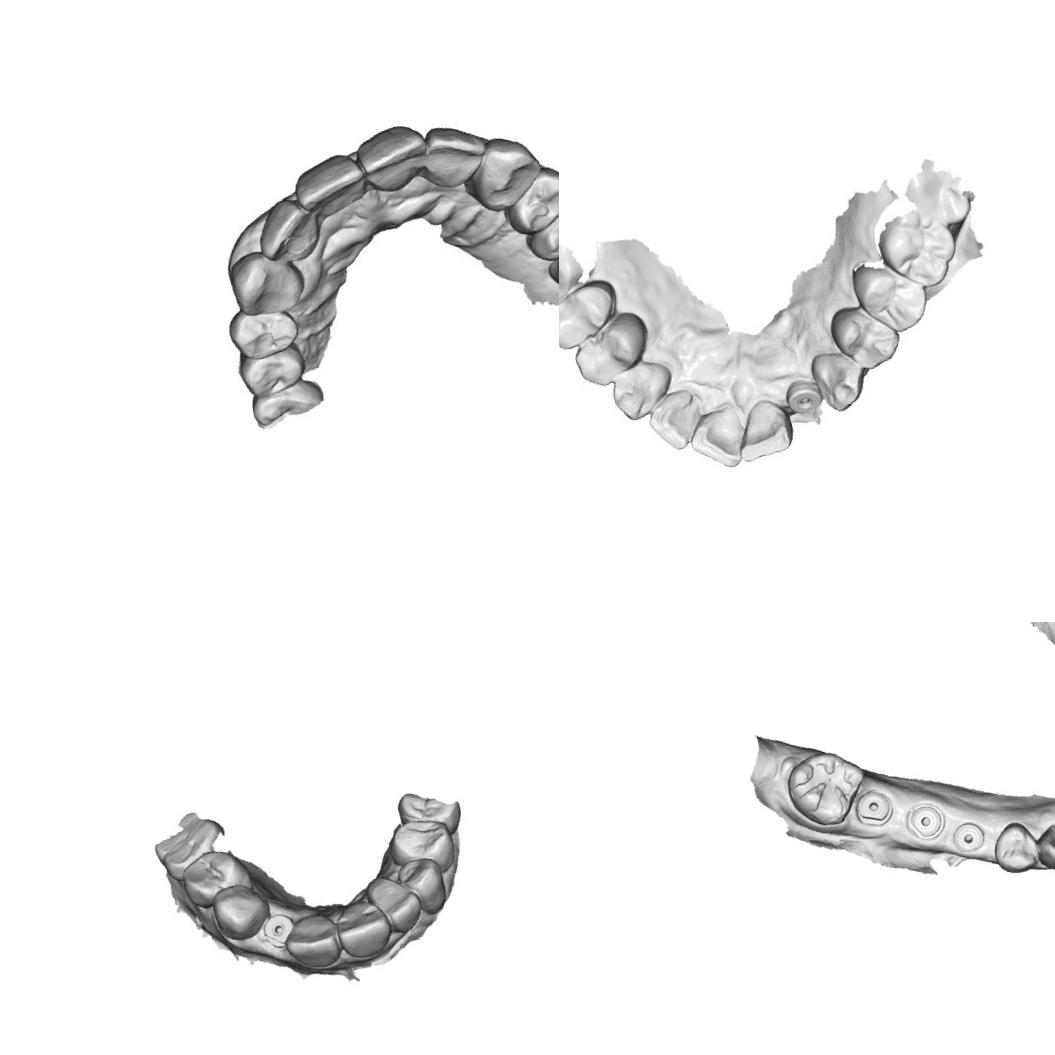canine: (603, 351, 683, 425), (225, 246, 302, 318), (471, 138, 546, 211), (205, 876, 274, 946), (393, 850, 452, 920), (814, 344, 874, 412), (1030, 817, 1055, 876)
implant: (782, 374, 828, 423), (850, 782, 896, 828), (906, 798, 948, 844), (258, 908, 298, 953), (948, 816, 989, 858)
incisor: (292, 150, 371, 224), (352, 119, 426, 193), (362, 867, 429, 940), (278, 907, 346, 977), (420, 119, 486, 190), (257, 192, 323, 263), (330, 894, 396, 962), (728, 396, 794, 459), (649, 388, 710, 452), (691, 406, 752, 468)
molar: (775, 737, 872, 836), (145, 802, 235, 886), (880, 204, 957, 290), (534, 215, 559, 313)
premolar: (564, 306, 666, 390), (850, 255, 928, 337), (559, 272, 630, 357), (382, 810, 462, 884), (832, 298, 904, 370), (172, 849, 250, 910), (228, 300, 297, 363), (392, 778, 464, 838), (502, 165, 559, 235), (985, 816, 1044, 882), (243, 348, 307, 400), (531, 200, 559, 261)
